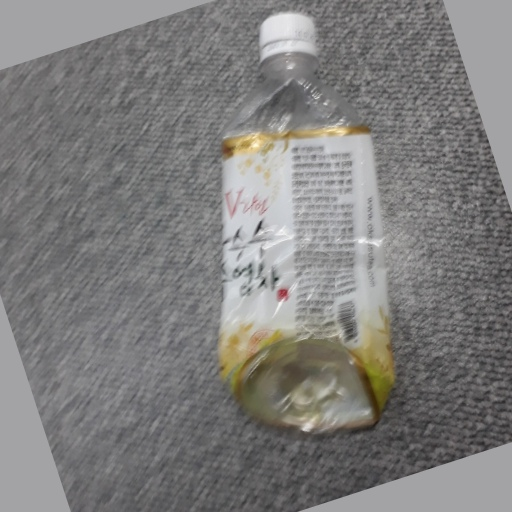Plastic_0: (217, 10, 399, 432)
